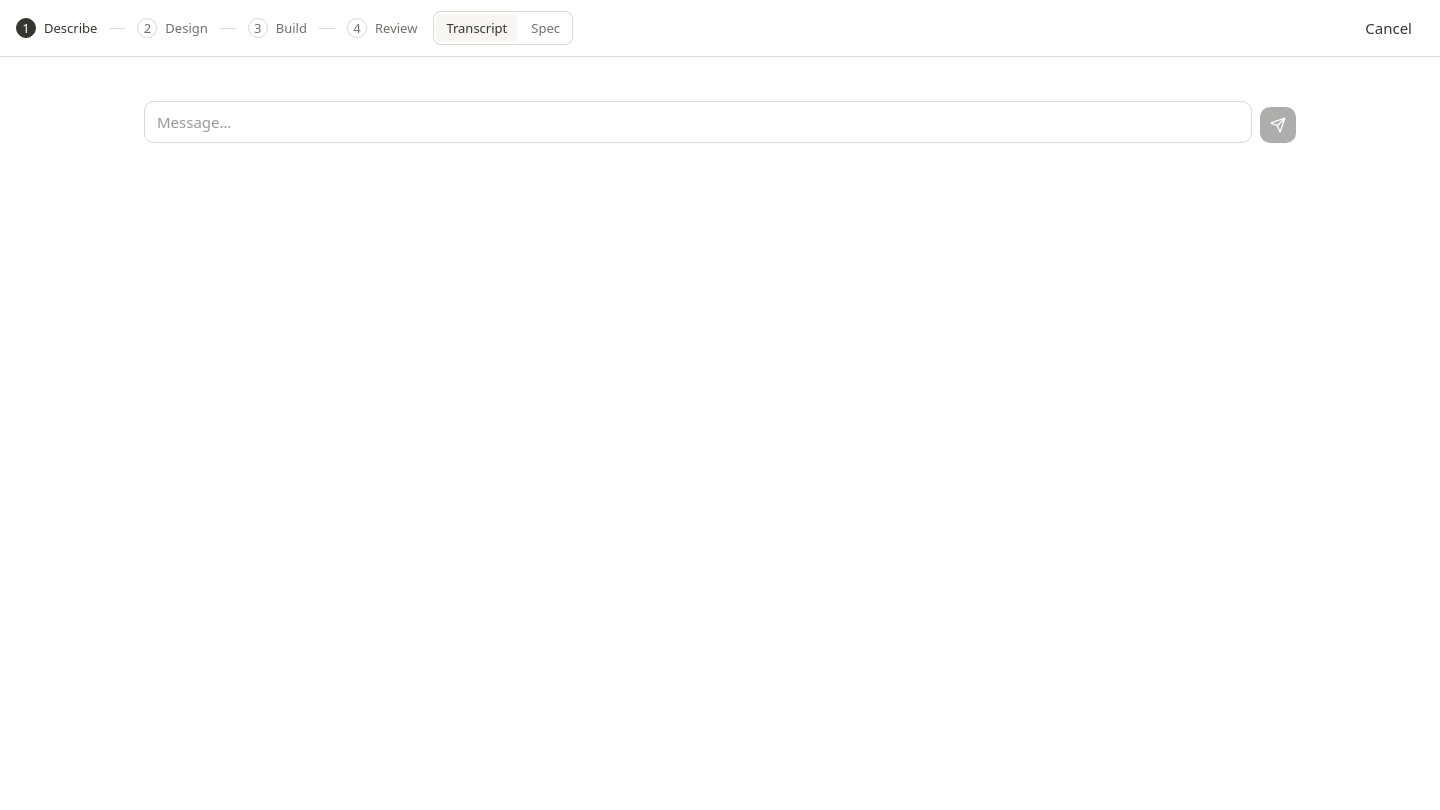
Test: SSE completing AFTER the build POST already resolved does not refetch or corrupt the transcript (regression, round 2)
The image size is (1440, 810).
Type "describe" into the text box at (698, 122), box [144,101,1252,143]
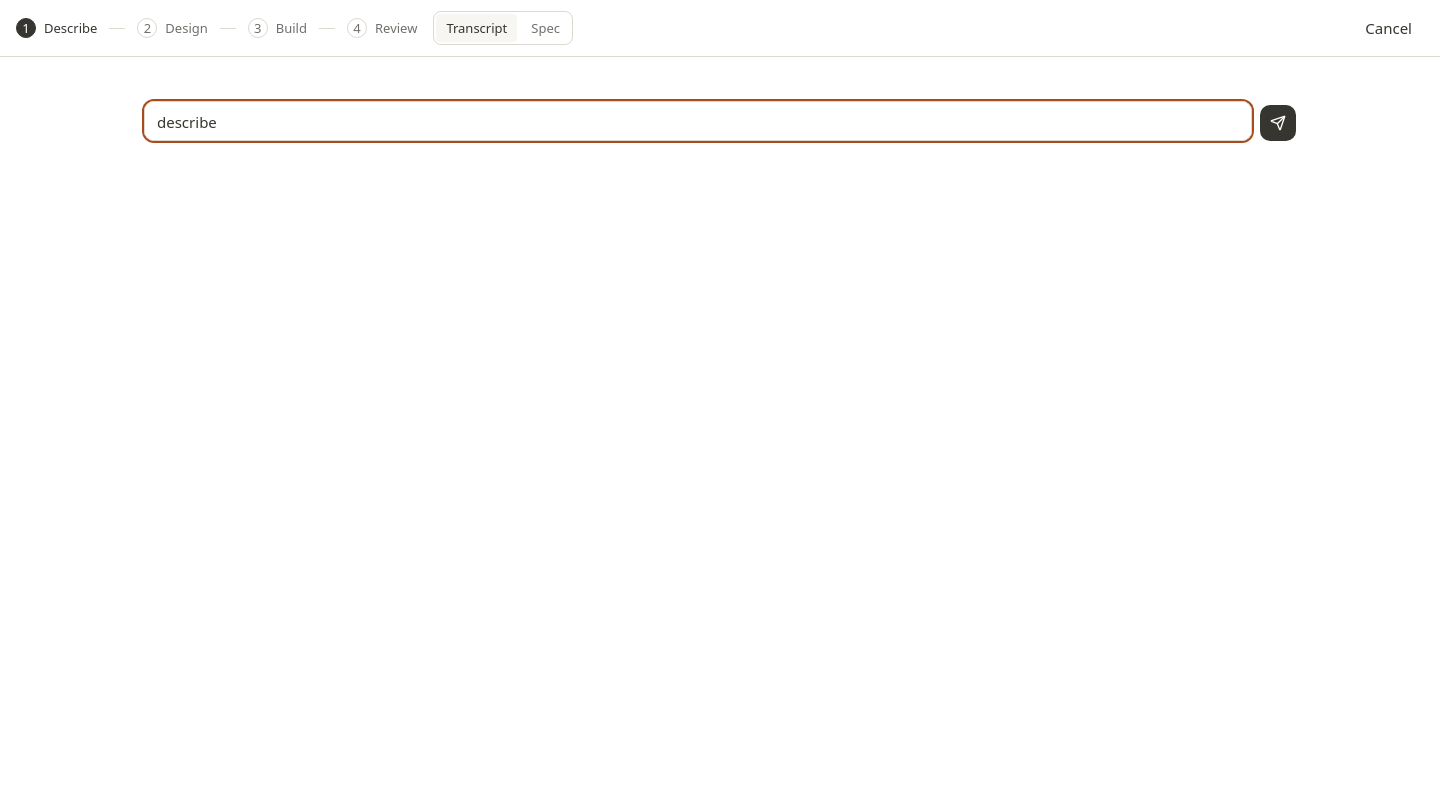
Press Enter in the text box, box [144,101,1252,141]
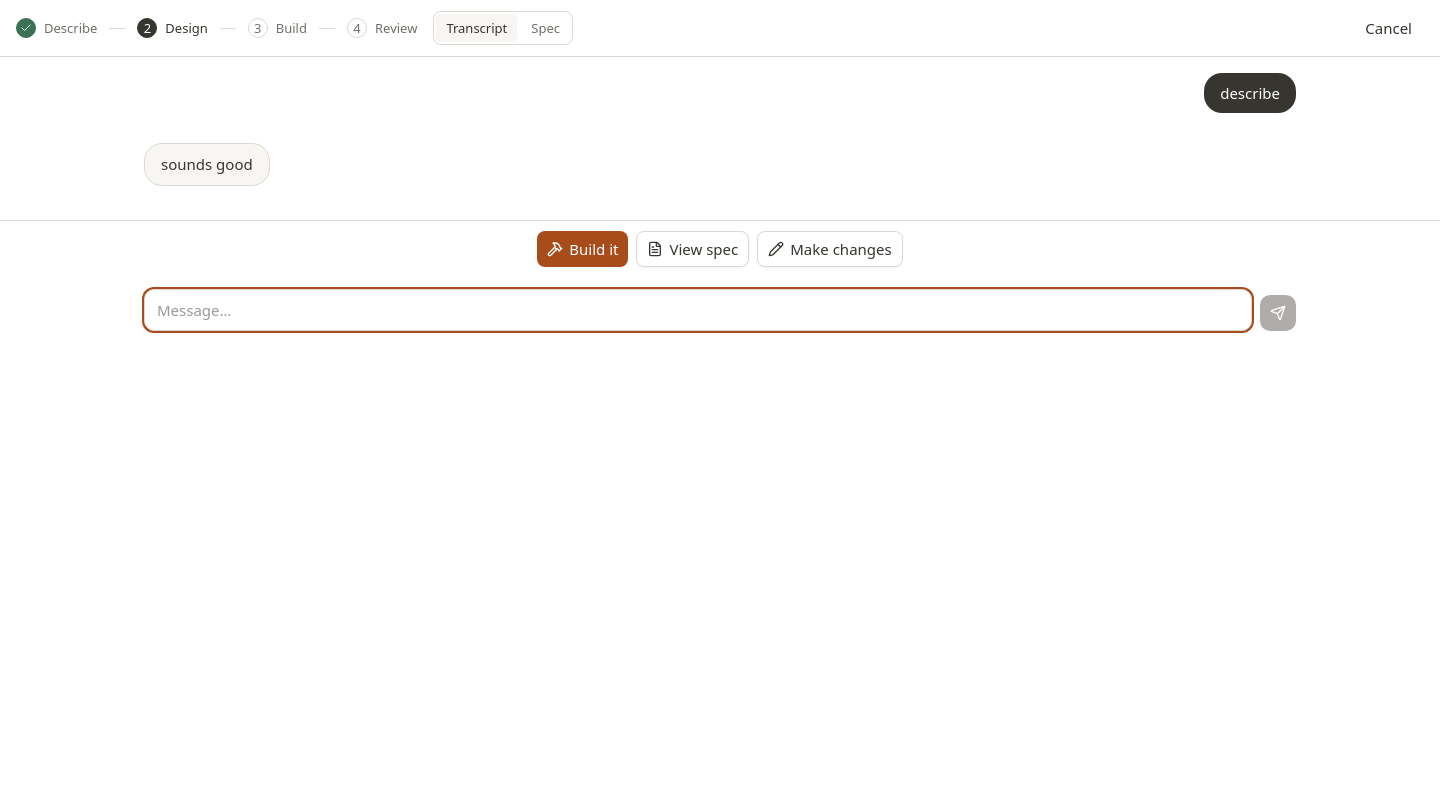
Click the button "Build it" at (583, 249), box [537,231,628,267]
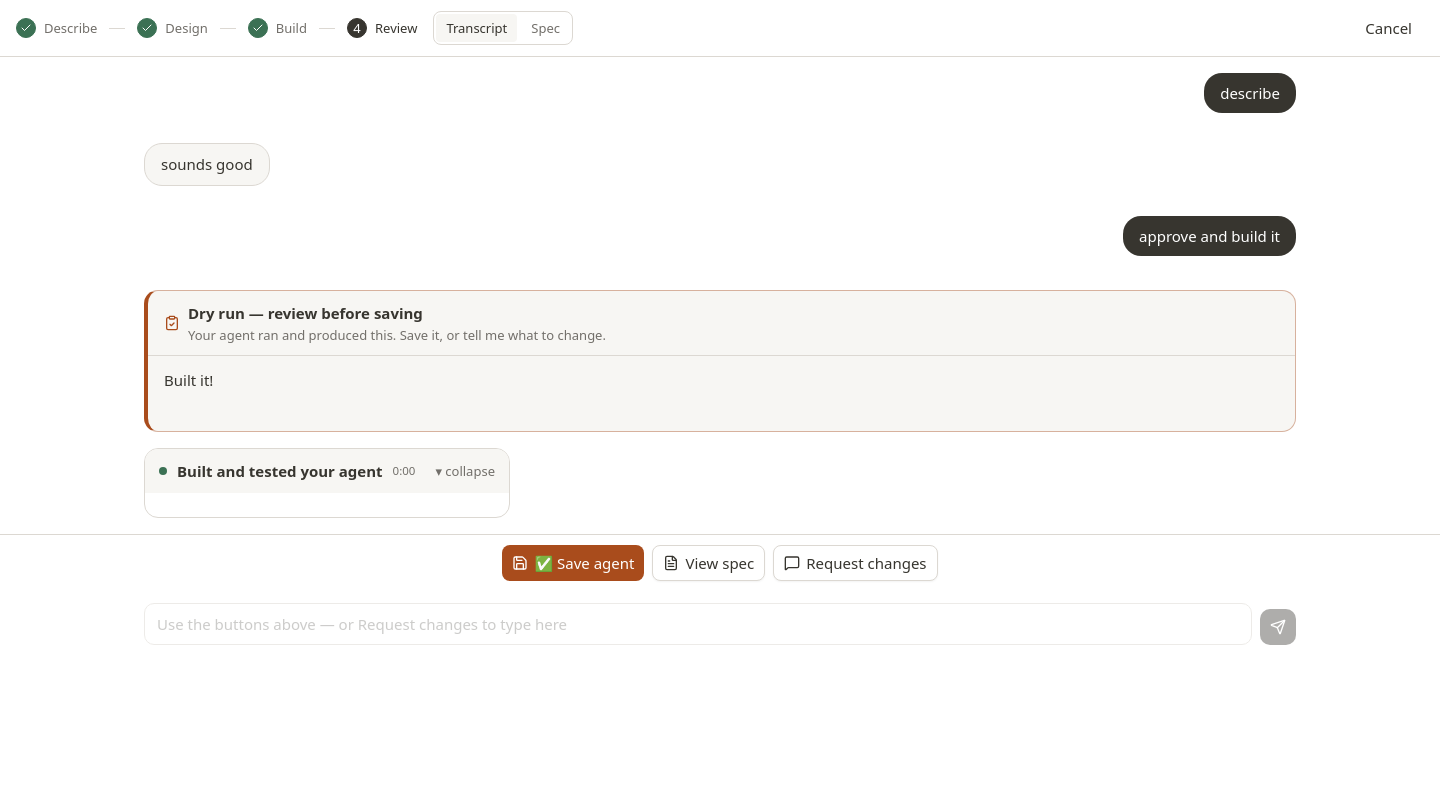
Check: the text "approve and build it" is shown, box [1139,224,1280,248]
Check: the text "Built it!" is shown once, box [164,370,213,390]
